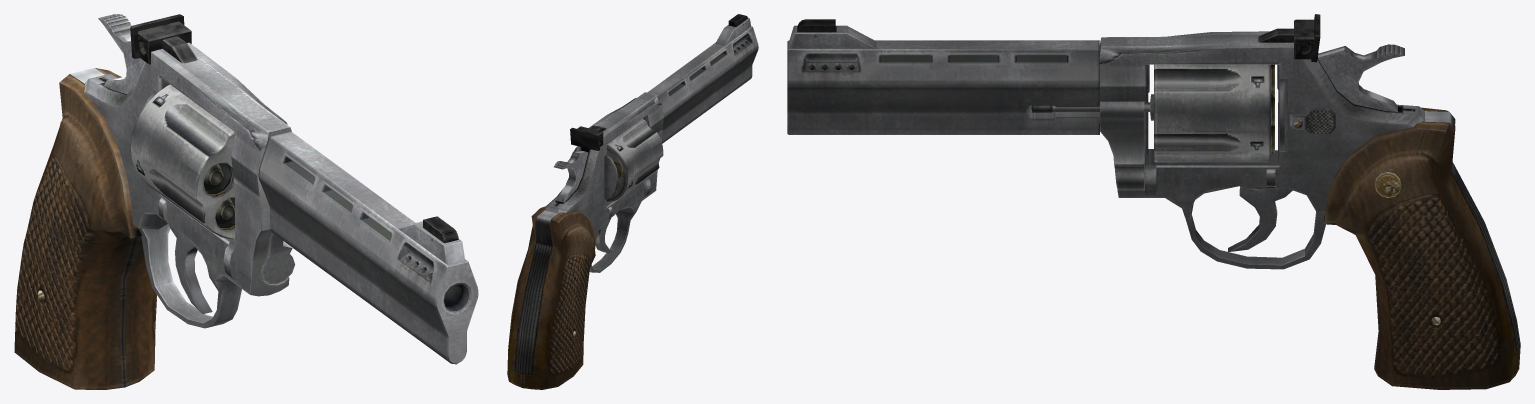
Rendered from Magnum_Revolver.obj.
3 renders of one model, left to right at view 1: azimuth 30°, elevation 25°; view 2: azimuth 150°, elevation 25°; view 3: azimuth 270°, elevation 25°, orthographic. The views are drawn at different scales.
Visible parts, largest first — view 1: model_we16b; view 2: model_we16b; view 3: model_we16b.
Part boxes in pixels (box(x1,y1,x2,y2)): model_we16b: box(14, 14, 478, 389); model_we16b: box(507, 14, 758, 389); model_we16b: box(787, 14, 1520, 389).
Size of the model in its own units: 0.1501 by 0.5214 by 1.
